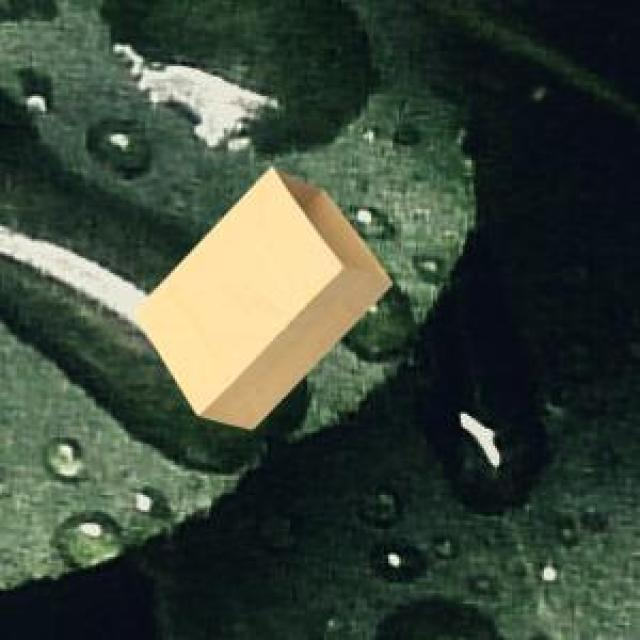paper: (130, 162, 388, 425)
